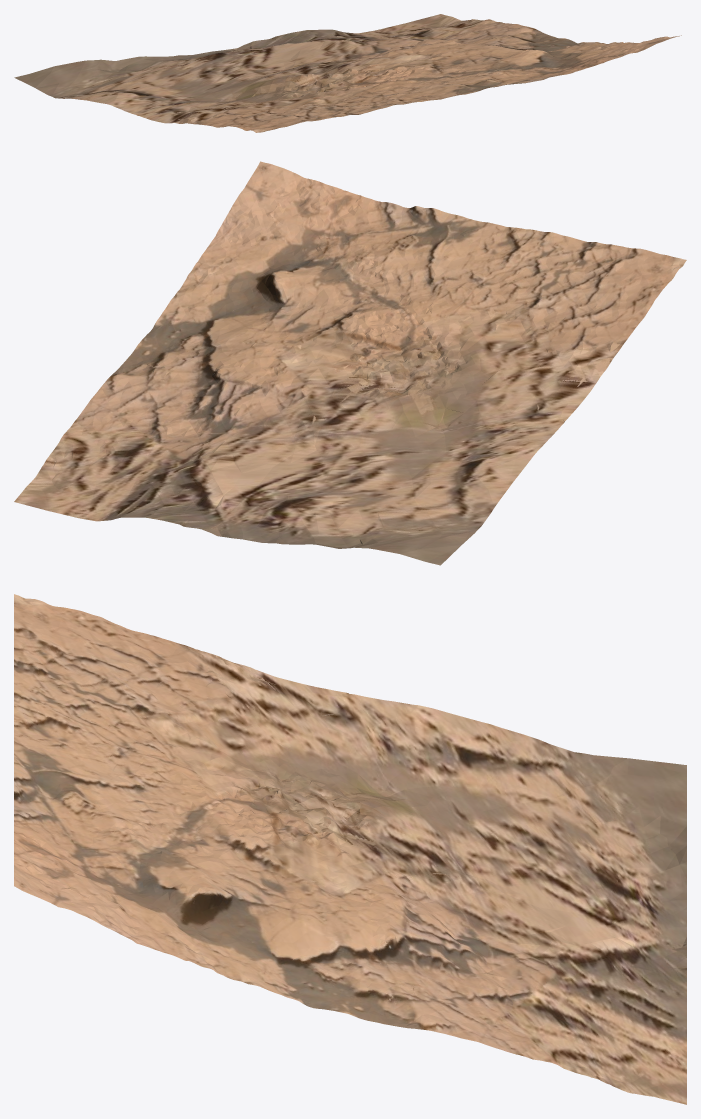
3 views of the same model, one above another, from view 1: azimuth 30°, elevation 25°; view 2: azimuth 150°, elevation 25°; view 3: azimuth 270°, elevation 25° (orthographic). The views are drawn at different scales.
Size of the model in its own units: 1.04 by 0.3896 by 1.04.
Materials: 2 (2 with a texture image).
